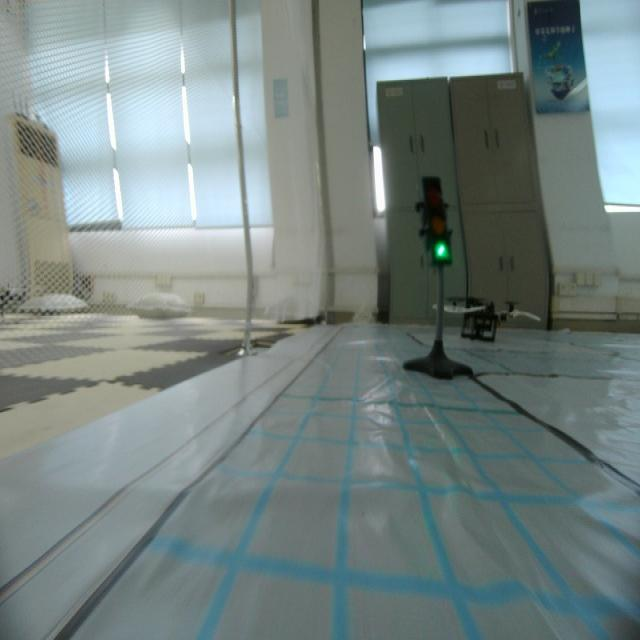green: (411, 166, 456, 270)
